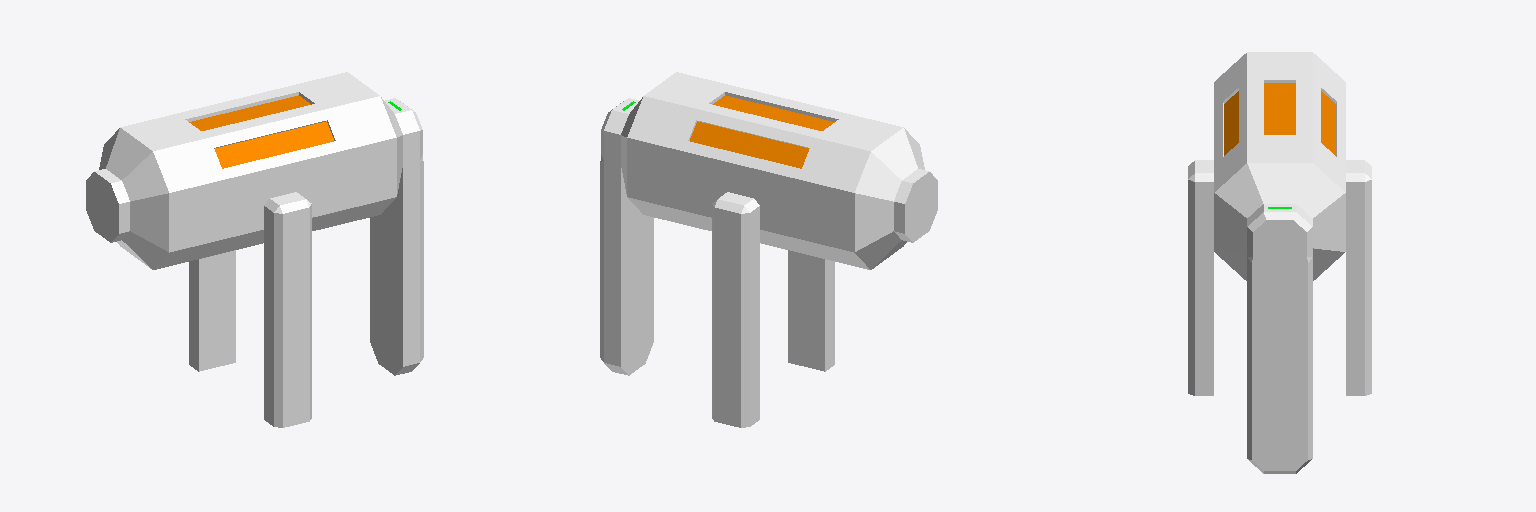
The model's file is Generator-Type-0.obj.
3 views of the same model, side by side, from view 1: azimuth 30°, elevation 25°; view 2: azimuth 150°, elevation 25°; view 3: azimuth 270°, elevation 25° (orthographic).
Visible parts, largest first — view 1: Generator-Type-0; view 2: Generator-Type-0; view 3: Generator-Type-0.
Boxes of the visible parts, x1=… form: Generator-Type-0: x1=86, y1=72, x2=423, y2=427; Generator-Type-0: x1=600, y1=72, x2=937, y2=427; Generator-Type-0: x1=1188, y1=52, x2=1371, y2=473.
Size of the model in its own units: 2.7 by 2.45 by 1.4.